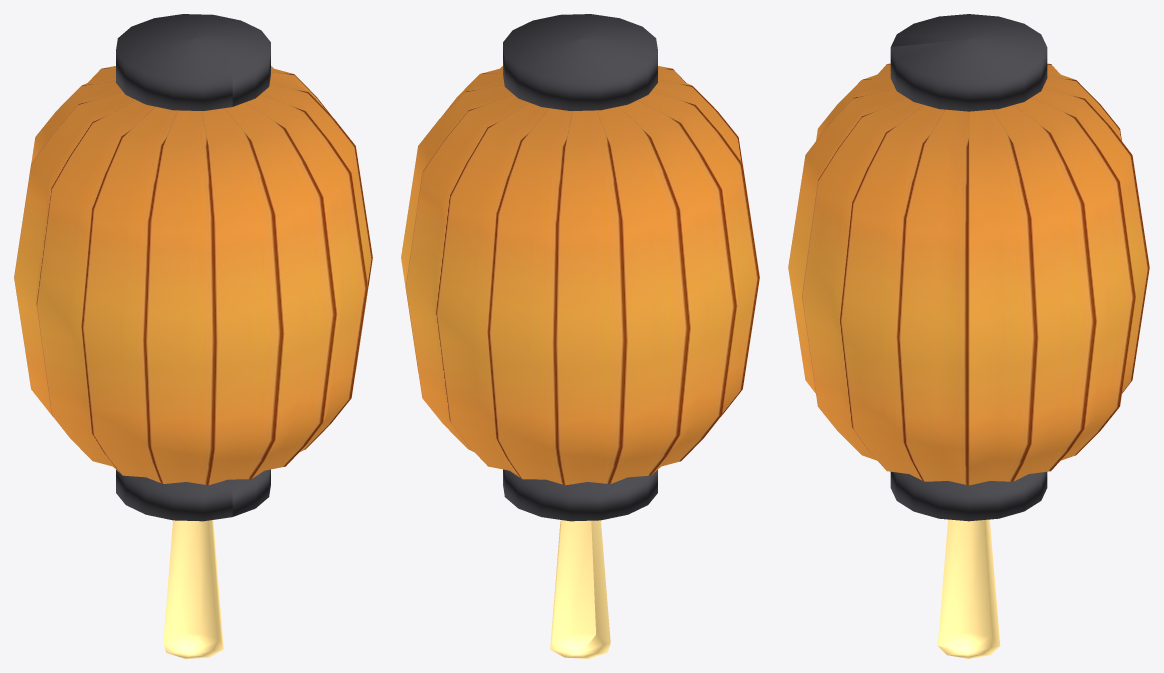
Rendered from mwx_lantern.glb.
3 views of the same model, side by side, from view 1: azimuth 30°, elevation 25°; view 2: azimuth 150°, elevation 25°; view 3: azimuth 270°, elevation 25° (orthographic).
Visible parts, largest first — view 1: mwx_lantern; view 2: mwx_lantern; view 3: mwx_lantern.
Part boxes in pixels (box(x1,y1,x2,y2)): mwx_lantern: box(14, 14, 372, 658); mwx_lantern: box(401, 14, 759, 658); mwx_lantern: box(788, 14, 1149, 658).
Size of the model in its own units: 2.08 by 3.9 by 2.08.
Materials: 3 (1 with a texture image).
